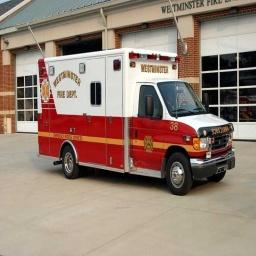Ambulance: (38, 48, 234, 194)
